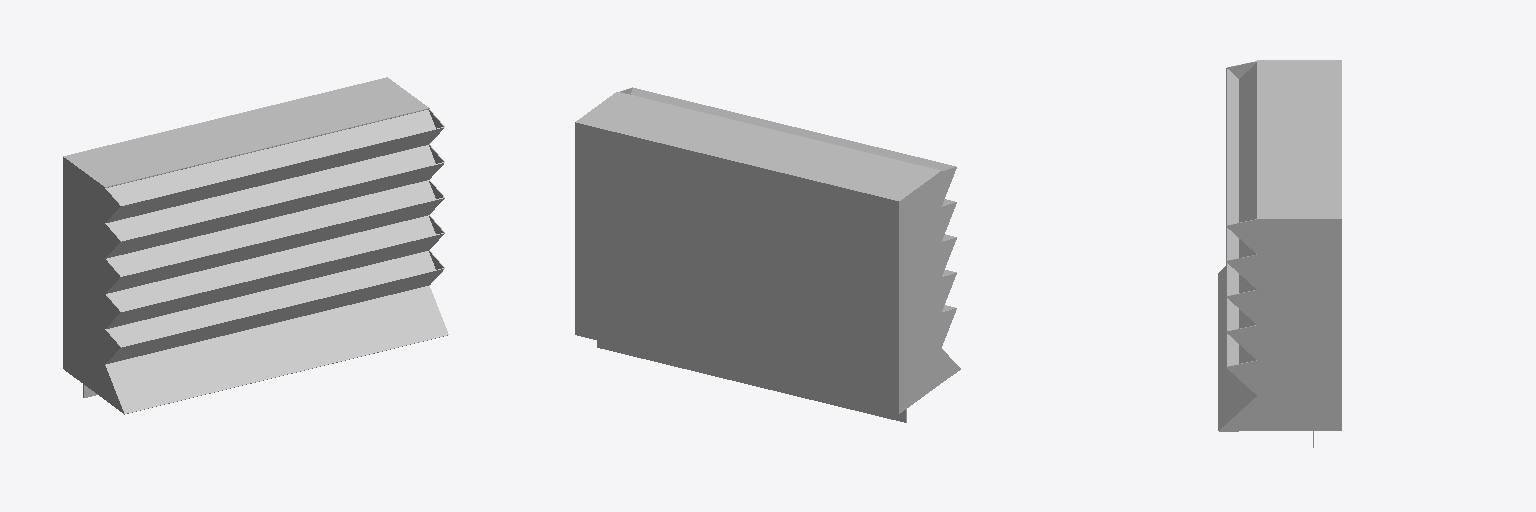
3 renders of one model, left to right at view 1: azimuth 30°, elevation 25°; view 2: azimuth 150°, elevation 25°; view 3: azimuth 270°, elevation 25°, orthographic.
Visible parts, largest first — view 1: WhiteInteriorWall_70, Glazing_DoublePane_LowE_65; view 2: WhiteInteriorWall_70, Glazing_DoublePane_LowE_65; view 3: WhiteInteriorWall_70, Glazing_DoublePane_LowE_65.
Part boxes in pixels (left/top/right/bottom): WhiteInteriorWall_70: left=63, top=77, right=448, bottom=414; Glazing_DoublePane_LowE_65: left=106, top=81, right=435, bottom=346; WhiteInteriorWall_70: left=575, top=87, right=960, bottom=422; Glazing_DoublePane_LowE_65: left=586, top=114, right=828, bottom=178; WhiteInteriorWall_70: left=1218, top=60, right=1341, bottom=447; Glazing_DoublePane_LowE_65: left=1238, top=62, right=1335, bottom=363.
Bounding box in the file's own units: 40.4 × 27.75 × 13.3.